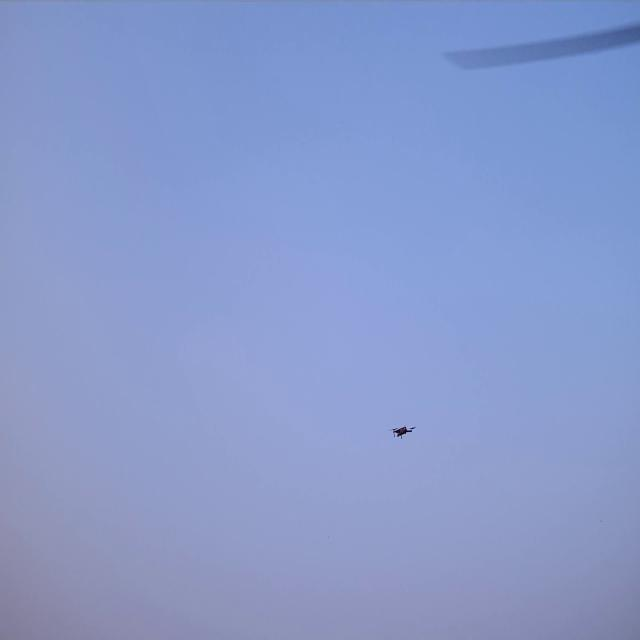UAV: (388, 424, 417, 438)
